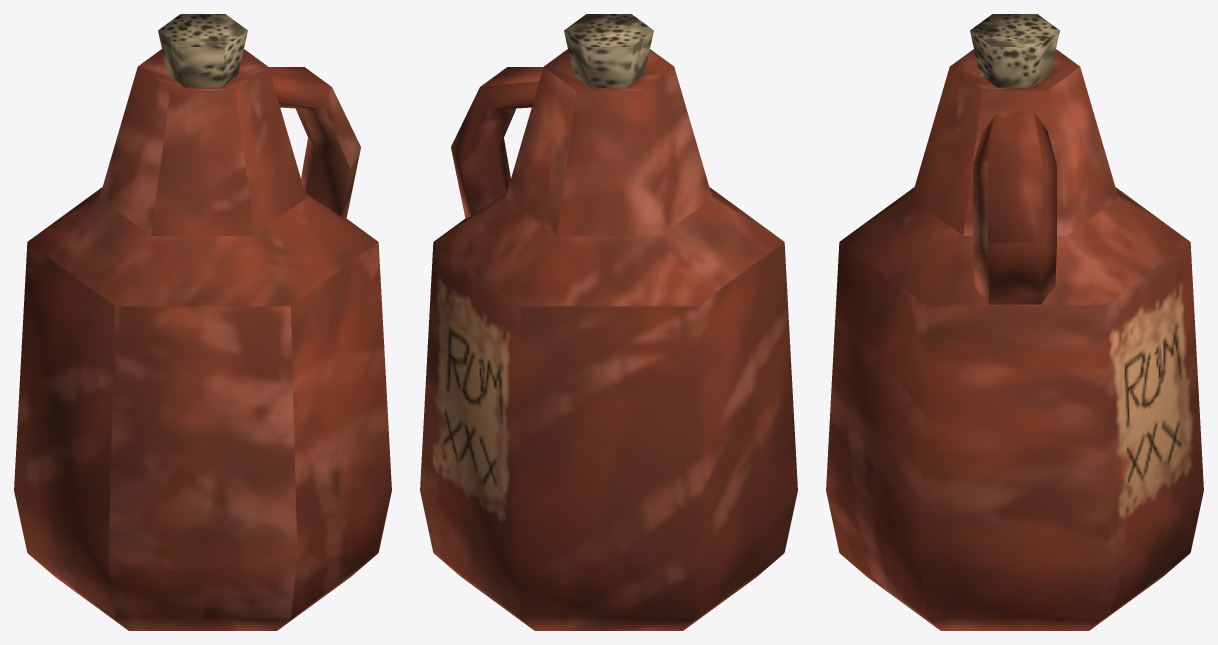
The model's file is rum_jug_brown.glb.
The picture shows the model from 3 angles, left to right: view 1: azimuth 30°, elevation 25°; view 2: azimuth 150°, elevation 25°; view 3: azimuth 270°, elevation 25°; orthographic projection.
Parts seen in each view (by area): view 1: 2_handle, 3_cork; view 2: 2_handle, 3_cork; view 3: 2_handle, 3_cork.
Boxes of the visible parts, x1,y1,x2,y2 form: 2_handle: (14, 49, 391, 630); 3_cork: (158, 14, 247, 87); 2_handle: (420, 49, 797, 630); 3_cork: (564, 14, 653, 87); 2_handle: (826, 49, 1203, 630); 3_cork: (970, 14, 1059, 87).
Size of the model in its own units: 1.06 by 1.93 by 1.21.
Materials: 2 (2 with a texture image).
